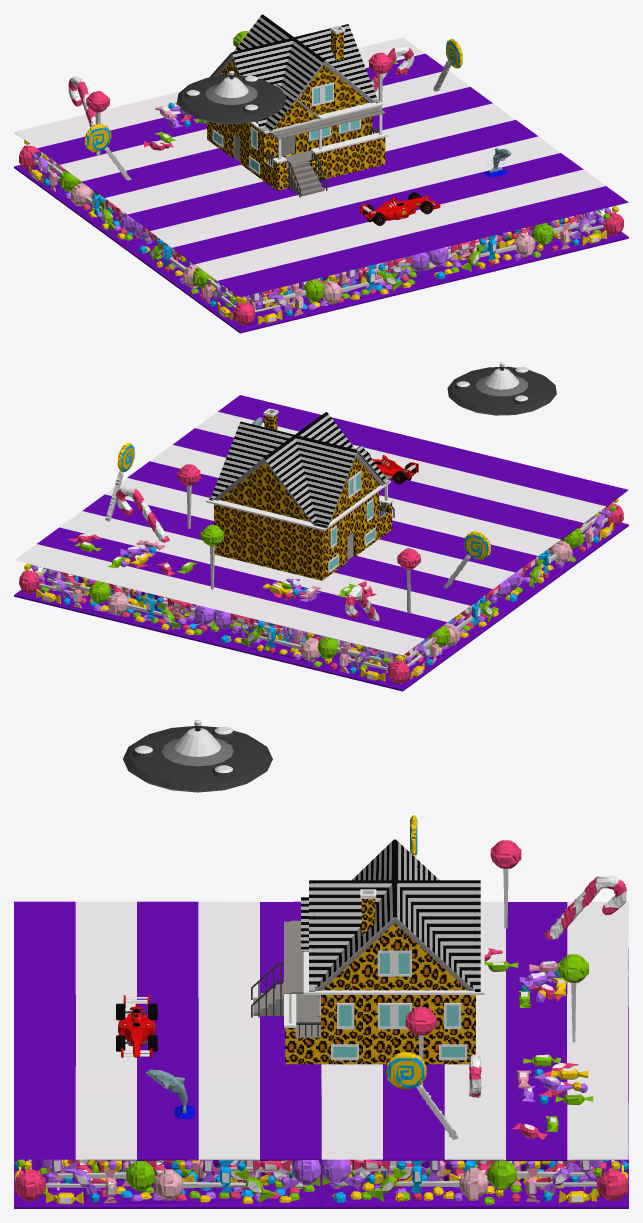
3 views of the same model, one above another, from view 1: azimuth 30°, elevation 25°; view 2: azimuth 150°, elevation 25°; view 3: azimuth 270°, elevation 25° (orthographic). The views are drawn at different scales.
Parts seen in each view (by area): view 1: TERRAIN_CANDY, Cube.637, OBJRANDOM_UFO, VEHICLES_FORMULA_1; view 2: TERRAIN_CANDY, Cube.637, OBJRANDOM_UFO, VEHICLES_FORMULA_1; view 3: TERRAIN_CANDY, Cube.637, OBJRANDOM_UFO, VEHICLES_FORMULA_1, ANIMAL_DELFIN.
Boxes of the visible parts, x1,y1,x2,y2 form: TERRAIN_CANDY: (14, 31, 628, 333); Cube.637: (207, 14, 387, 197); OBJRANDOM_UFO: (177, 71, 286, 123); VEHICLES_FORMULA_1: (360, 192, 440, 225); TERRAIN_CANDY: (14, 395, 628, 691); Cube.637: (206, 408, 394, 580); OBJRANDOM_UFO: (447, 362, 556, 415); VEHICLES_FORMULA_1: (366, 451, 418, 484); TERRAIN_CANDY: (14, 815, 628, 1208); Cube.637: (251, 839, 484, 1064); OBJRANDOM_UFO: (123, 720, 272, 792); VEHICLES_FORMULA_1: (116, 995, 157, 1057); ANIMAL_DELFIN: (145, 1069, 196, 1119).
Size of the model in its own units: 4059 by 2014 by 4000.
Materials: 28 (3 with a texture image).
